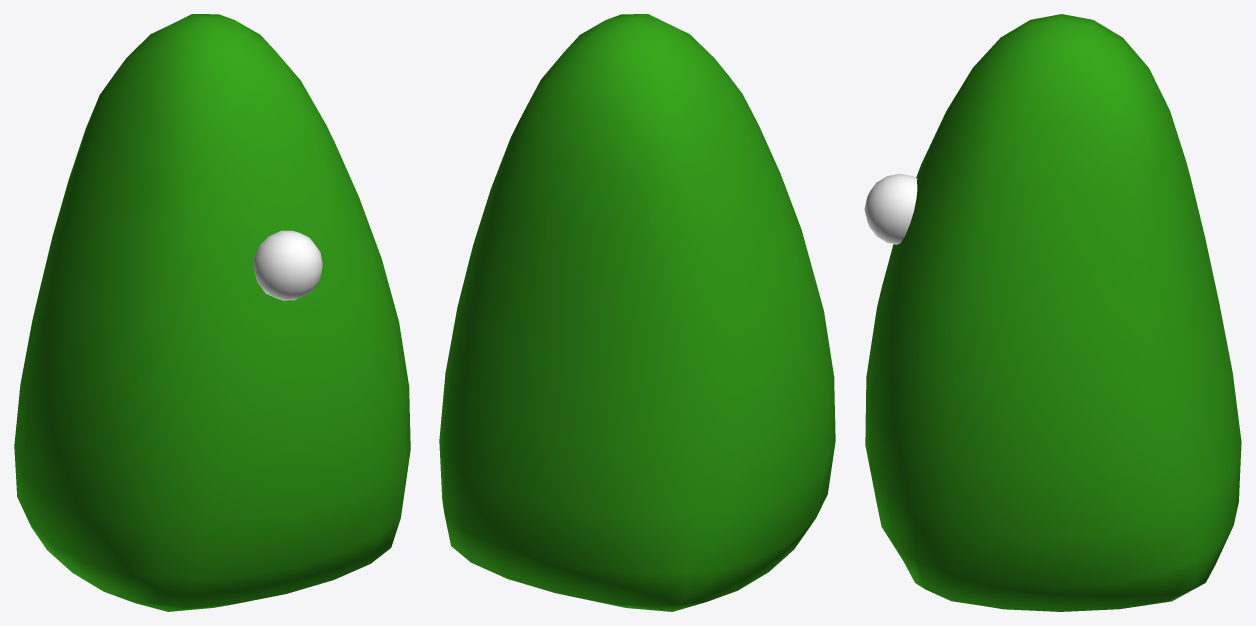
File: Slime_02.fbx
The picture shows the model from 3 angles, left to right: view 1: azimuth 30°, elevation 25°; view 2: azimuth 150°, elevation 25°; view 3: azimuth 270°, elevation 25°; orthographic projection.
Visible parts, largest first — view 1: Slime_02; view 2: Slime_02; view 3: Slime_02.
Part boxes in pixels (bbox=[...]): Slime_02: bbox=[14, 14, 410, 611]; Slime_02: bbox=[439, 14, 835, 611]; Slime_02: bbox=[864, 14, 1241, 611].
Bounding box in the file's own units: 0.4768 × 0.7366 × 0.4616.
